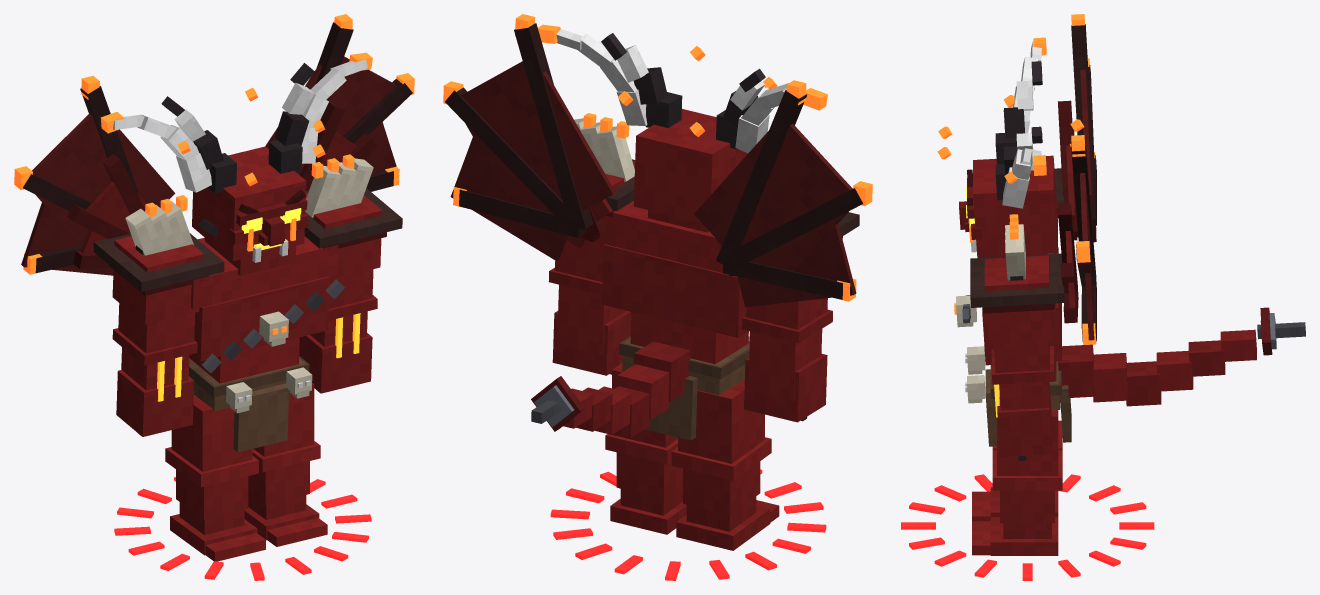
Rendered from seigneur_demon.glb.
The picture shows the model from 3 angles, left to right: view 1: azimuth 30°, elevation 25°; view 2: azimuth 150°, elevation 25°; view 3: azimuth 270°, elevation 25°; orthographic projection. The views are drawn at different scales.
Visible parts, largest first — view 1: Torso, Head, ArmR, ArmL, LegR, LegL, Root; view 2: Torso, Head, LegR, ArmL, ArmR, LegL, Root; view 3: Torso, ArmL, Head, LegL, Root, LegR.
Part boxes in pixels (box(x1,y1,x2,y2)): Torso: box(14, 14, 414, 452); Head: box(100, 52, 372, 275); ArmR: box(93, 195, 224, 436); ArmL: box(299, 154, 402, 393); LegR: box(165, 395, 265, 561); LegL: box(244, 383, 327, 546); Root: box(114, 477, 371, 580); Torso: box(443, 14, 872, 440); Head: box(538, 24, 827, 232); LegR: box(671, 378, 779, 550); ArmL: box(548, 113, 635, 375); ArmR: box(742, 212, 859, 422); LegL: box(605, 362, 686, 534); Root: box(550, 469, 826, 580); Torso: box(954, 14, 1305, 446); ArmL: box(970, 214, 1064, 460); Head: box(937, 37, 1084, 257); LegL: box(972, 410, 1062, 555); Root: box(901, 474, 1154, 580); LegR: box(972, 420, 1062, 521).
Size of the model in its own units: 2.04 by 2.28 by 1.86.
Materials: 47 (47 with a texture image).
